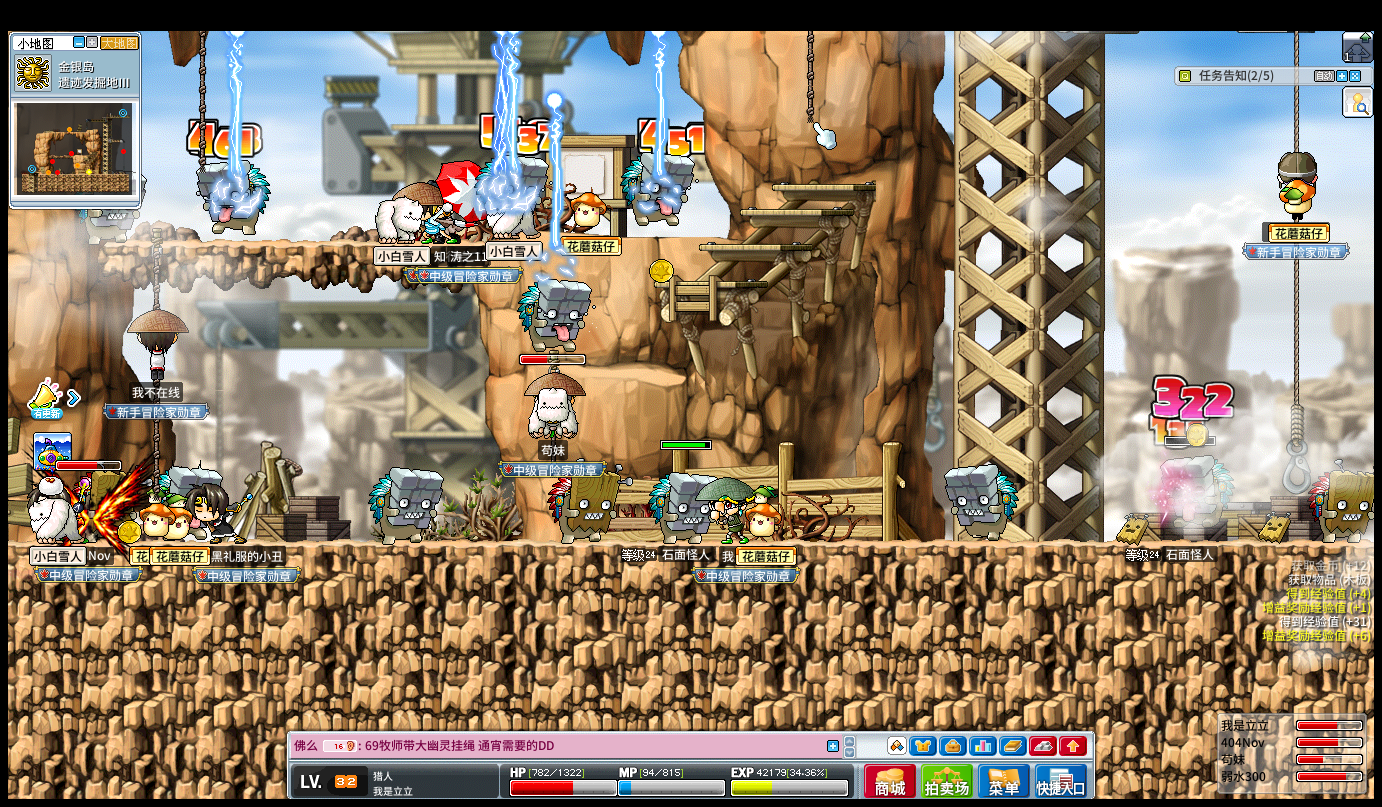floor: (107, 237, 479, 249), (582, 364, 688, 383), (559, 231, 739, 240), (739, 205, 852, 216), (649, 278, 766, 287), (696, 243, 810, 251), (736, 207, 849, 215), (771, 183, 875, 191)
monster: (547, 458, 626, 543), (1162, 455, 1235, 538), (197, 158, 272, 237), (368, 466, 443, 543), (517, 277, 592, 352), (1306, 464, 1377, 543), (621, 151, 694, 227), (945, 464, 1017, 541), (478, 155, 548, 231), (649, 472, 711, 541)
rope: (1291, 257, 1302, 406), (150, 228, 162, 308), (804, 29, 814, 124), (1292, 29, 1299, 148), (198, 31, 206, 135), (152, 418, 164, 473), (1289, 403, 1304, 442), (150, 419, 159, 473)
